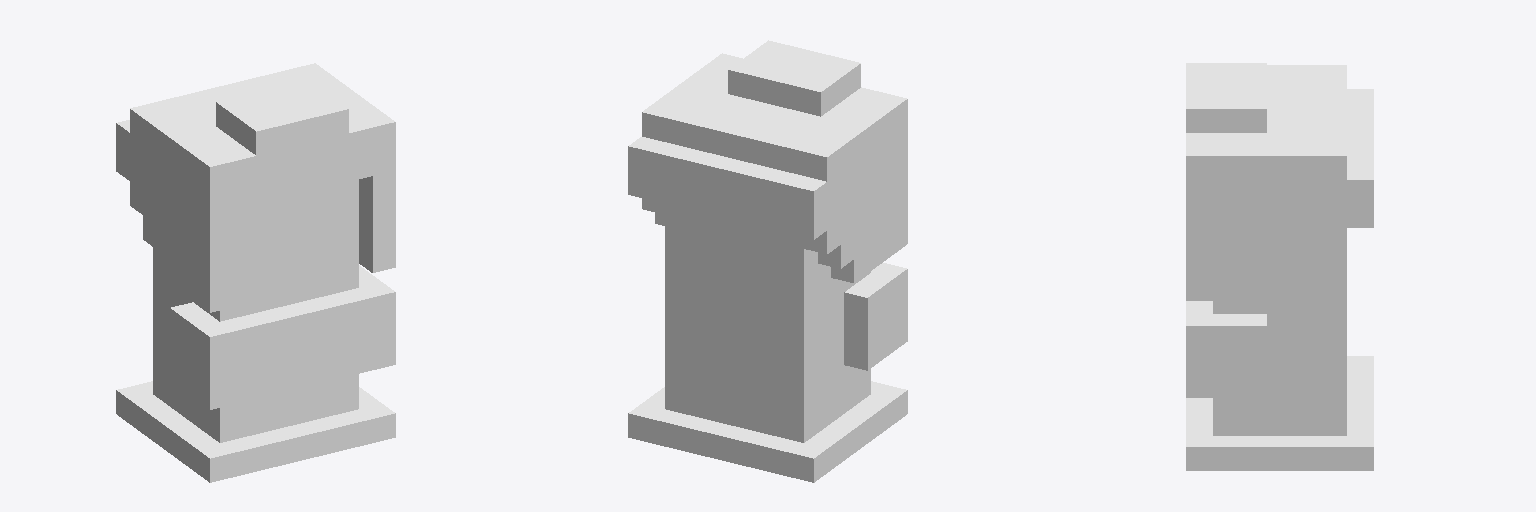
File: chinagirl.obj
3 renders of one model, left to right at view 1: azimuth 30°, elevation 25°; view 2: azimuth 150°, elevation 25°; view 3: azimuth 270°, elevation 25°, orthographic.
Bounding box in the file's own units: 8 × 14 × 7.